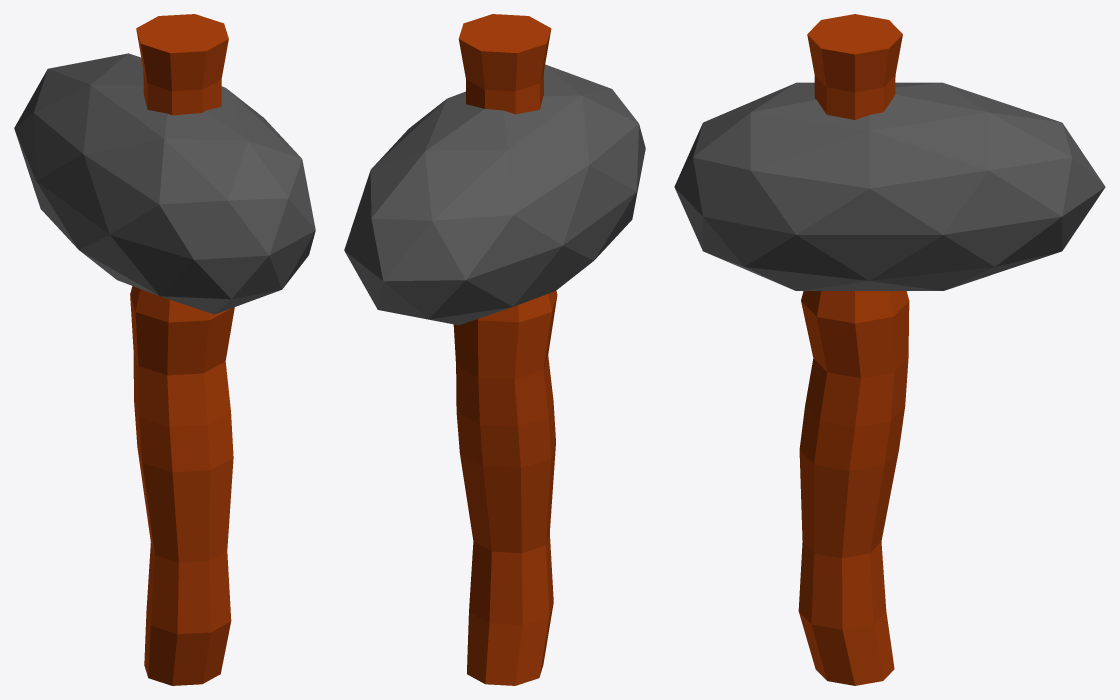
File: StoneAxe.fbx
The picture shows the model from 3 angles, left to right: view 1: azimuth 30°, elevation 25°; view 2: azimuth 150°, elevation 25°; view 3: azimuth 270°, elevation 25°; orthographic projection.
Parts seen in each view (by area): view 1: Icosphere, Cylinder.001; view 2: Icosphere, Cylinder.001; view 3: Icosphere, Cylinder.001.
Part boxes in pixels (x1,y1,x2,y2): Icosphere: (14,53,315,314); Cylinder.001: (130,14,234,685); Icosphere: (344,64,645,325); Cylinder.001: (453,14,557,685); Icosphere: (674,82,1105,290); Cylinder.001: (798,14,909,685).
Bounding box in the file's own units: 574 × 1774 × 1092.
